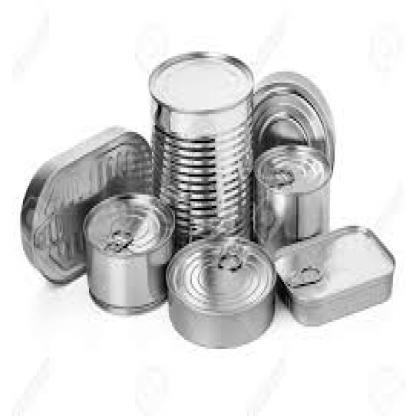METAL: (147, 49, 252, 251), (20, 123, 149, 282), (162, 235, 274, 347), (272, 224, 393, 324), (81, 188, 175, 315), (252, 69, 333, 179), (252, 143, 330, 255)
